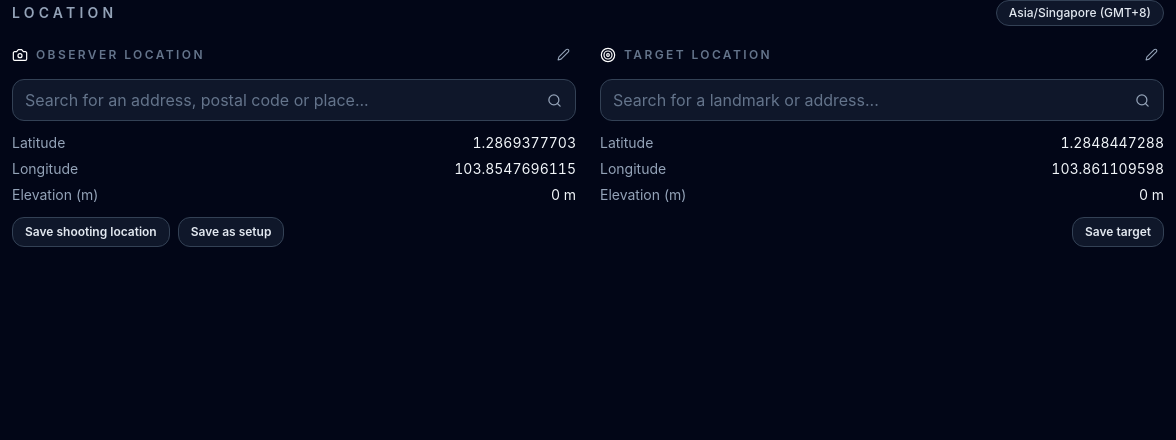
Scenario: LocationControls › cancels an edit with Escape and restores the previous value
Click the button named "edit observer location" at point(564, 54), box x1=551 y1=42 x2=576 y2=67
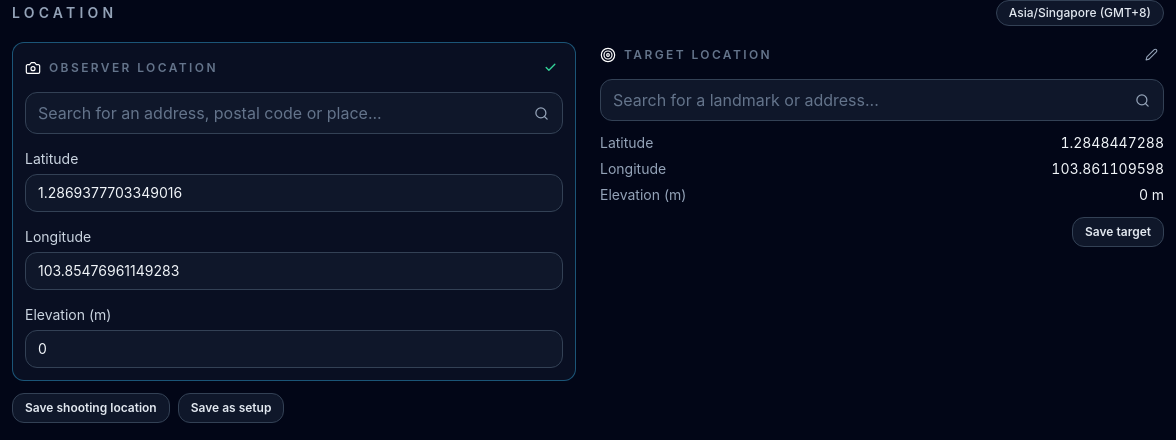
Replace the text in the field labelled "Latitude" with "9.9" at point(294, 193), box x1=25 y1=174 x2=563 y2=212
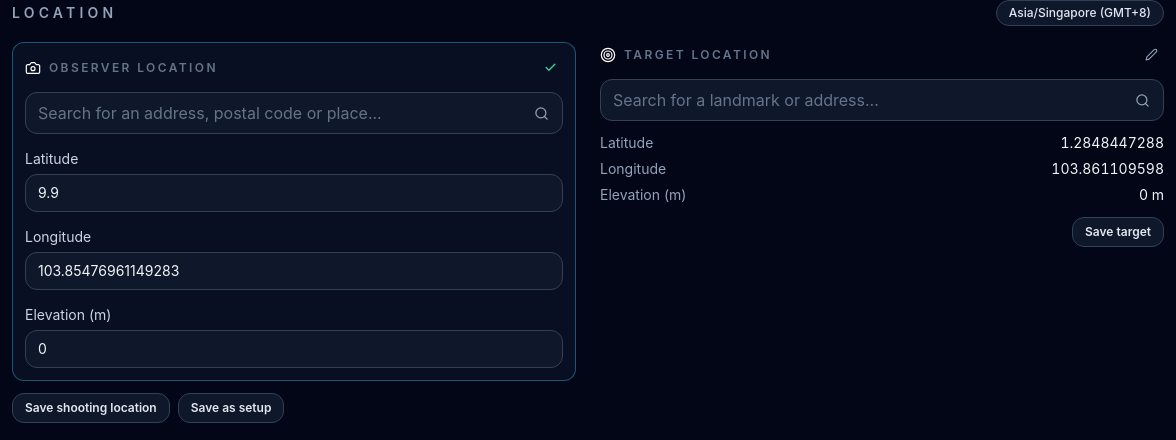
Press Escape in the field labelled "Latitude", box x1=25 y1=174 x2=563 y2=212
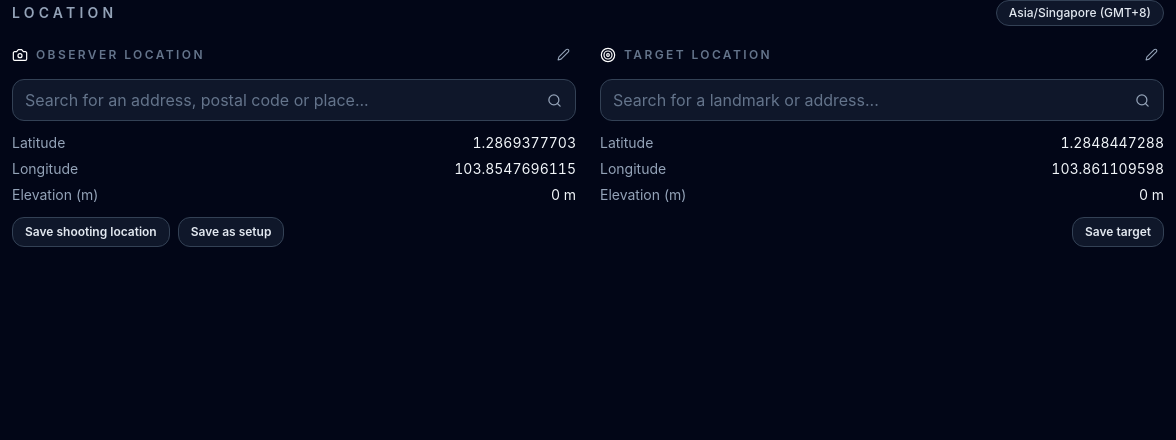
Now the text "1.2869377703" is shown once, box x1=472 y1=133 x2=576 y2=153
